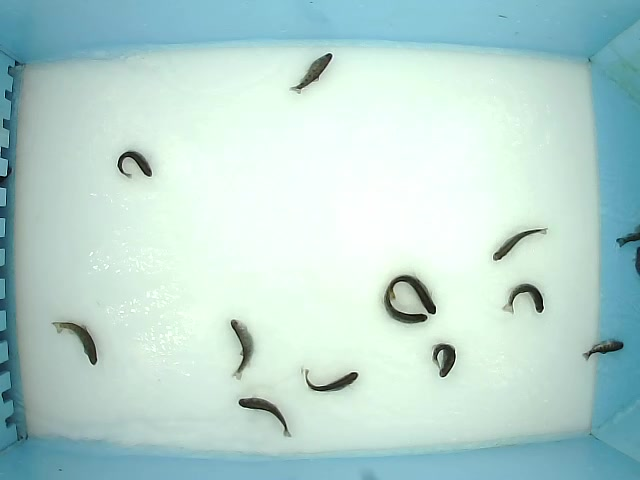fish: (49, 320, 98, 367), (238, 397, 293, 438), (386, 274, 438, 316), (491, 227, 549, 262), (287, 52, 333, 96), (382, 284, 430, 324), (300, 365, 361, 394), (501, 281, 546, 319), (230, 318, 255, 383), (116, 149, 153, 181), (581, 338, 625, 362), (431, 343, 456, 379)
